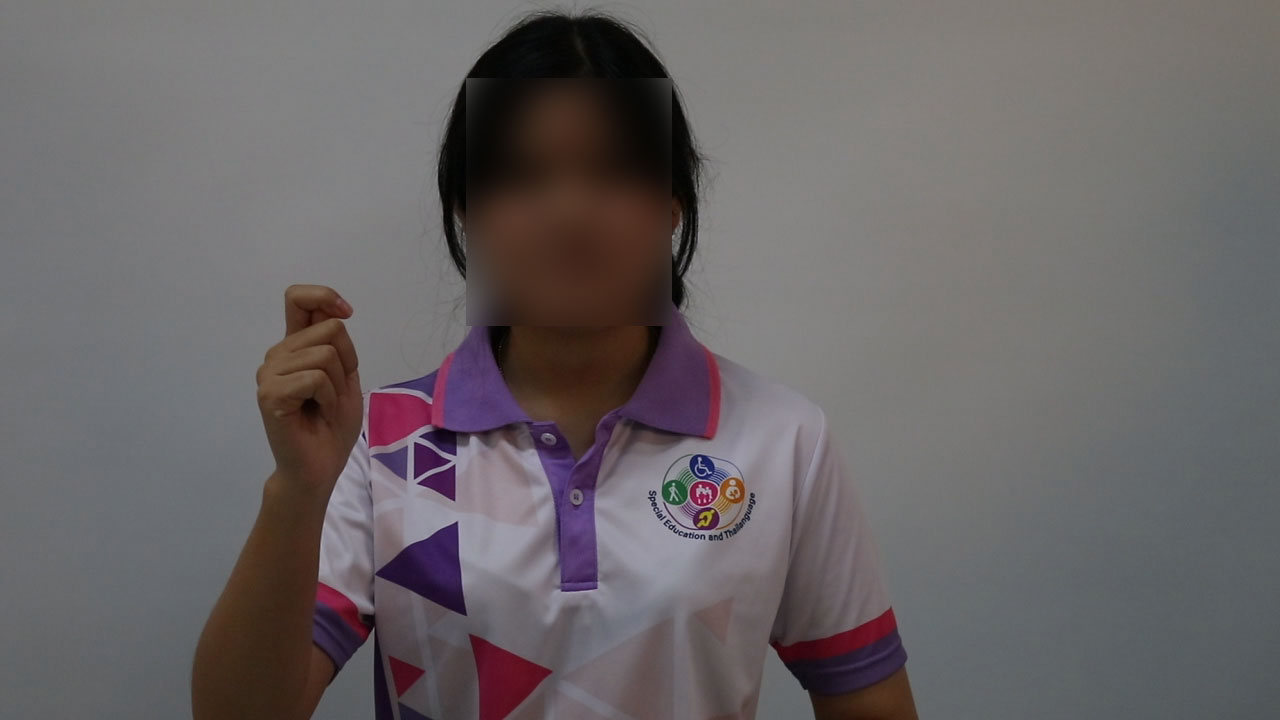or: (246, 280, 370, 496)
